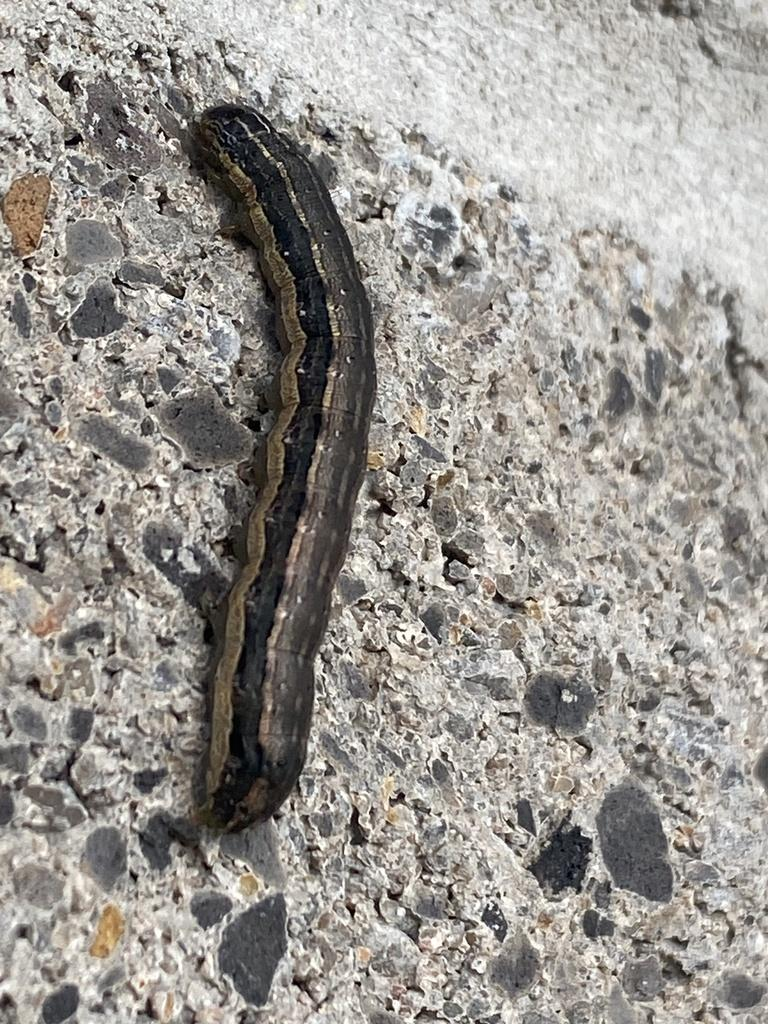caterpillars: (86, 47, 507, 920)
